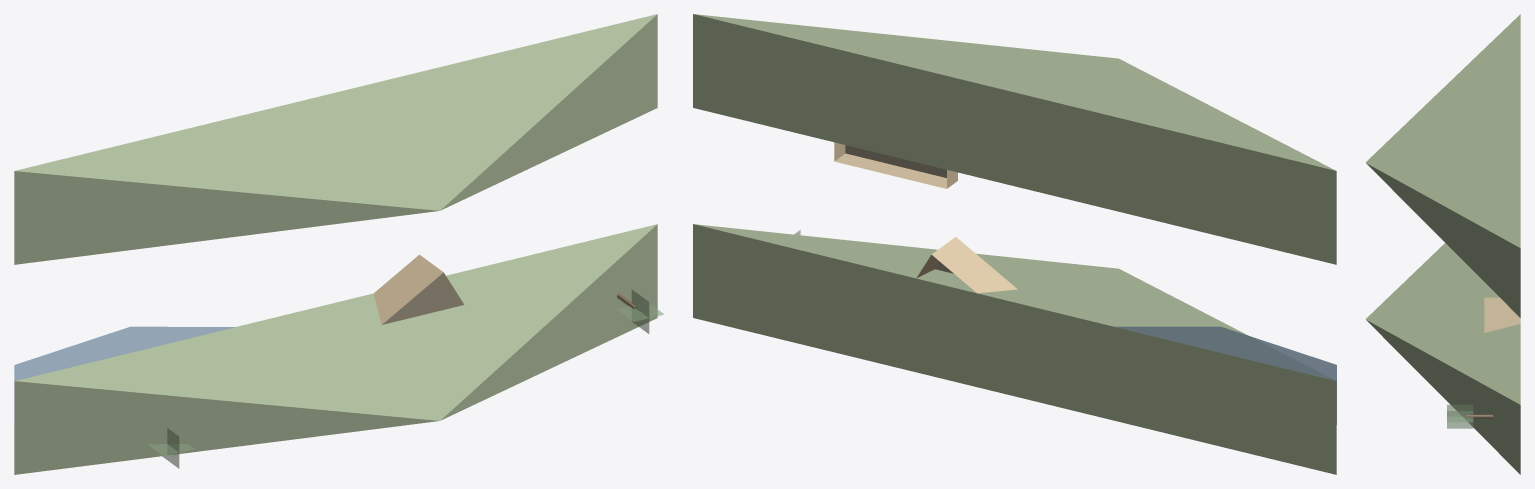
3 views of the same model, side by side, from view 1: azimuth 30°, elevation 25°; view 2: azimuth 150°, elevation 25°; view 3: azimuth 270°, elevation 25° (orthographic). The views are drawn at different scales.
Parts seen in each view (by area): view 1: Mountain_01, Mountain_02, Water_01, House_02, TreeMass_03, TreeMass_01; view 2: Mountain_01, Mountain_02, Water_01, House_02, House_01; view 3: Mountain_01, Mountain_02, House_02, TreeMass_03.
Part boxes in pixels (x1,y1,x2,y2): Mountain_01: [14, 14, 657, 264]; Mountain_02: [14, 224, 657, 474]; Water_01: [14, 326, 235, 424]; House_02: [373, 254, 464, 324]; TreeMass_03: [616, 290, 664, 333]; TreeMass_01: [147, 428, 194, 468]; Mountain_01: [693, 14, 1336, 264]; Mountain_02: [693, 224, 1336, 474]; Water_01: [1115, 326, 1336, 424]; House_02: [916, 237, 1017, 293]; House_01: [834, 142, 957, 188]; Mountain_01: [1365, 14, 1520, 317]; Mountain_02: [1365, 243, 1520, 474]; House_02: [1484, 297, 1520, 332]; TreeMass_03: [1447, 404, 1493, 428].
Size of the model in its own units: 15.78 by 7.12 by 4.42.
